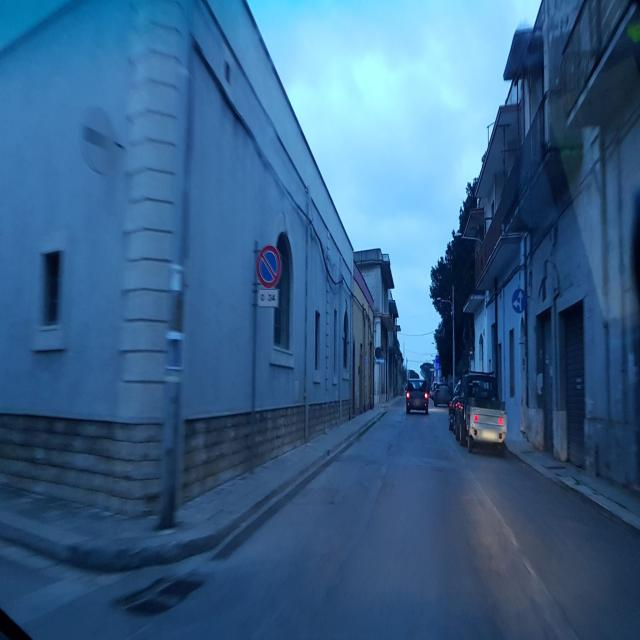forb_stopping: (256, 244, 283, 290)
